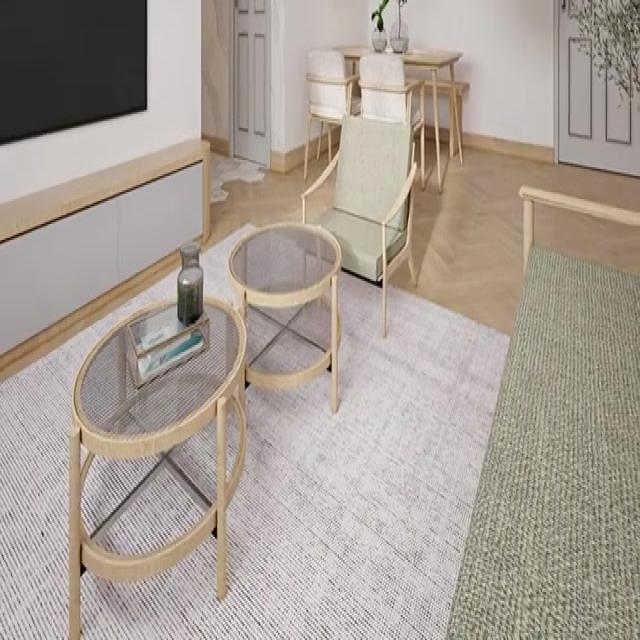door: (555, 0, 639, 178), (232, 0, 271, 169)
obstacle: (445, 180, 640, 640), (67, 294, 247, 638), (301, 118, 419, 339), (229, 220, 341, 410), (332, 43, 465, 192)
